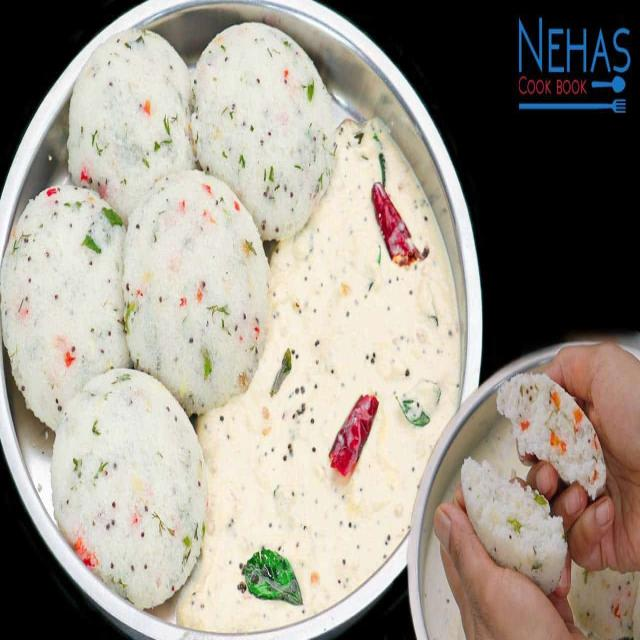rave idli: (52, 363, 211, 621), (122, 158, 272, 410), (191, 17, 349, 232), (1, 176, 131, 422), (63, 18, 193, 204)
